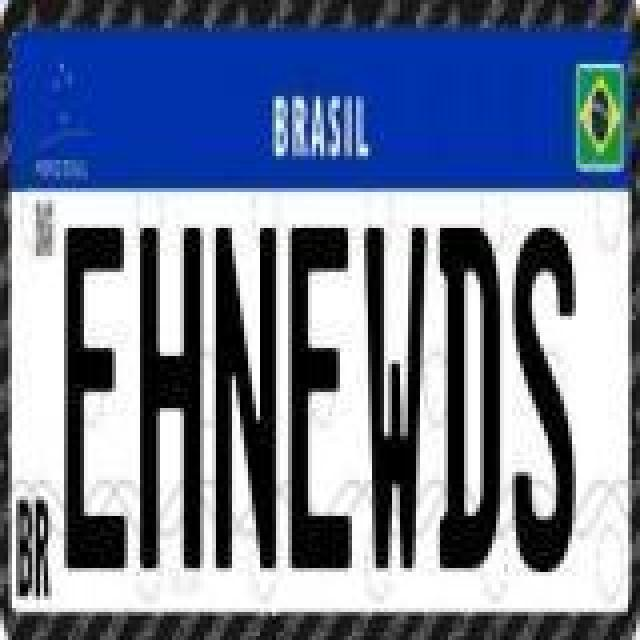D: (440, 222, 504, 578)
E: (64, 224, 128, 576), (288, 224, 352, 576)
H: (140, 228, 204, 572)
N: (216, 224, 280, 576)
S: (510, 220, 578, 580)
W: (364, 222, 428, 570)
